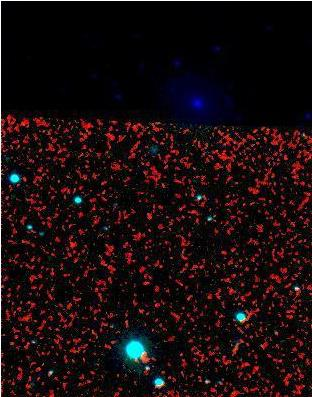star: (120, 333, 150, 363)
